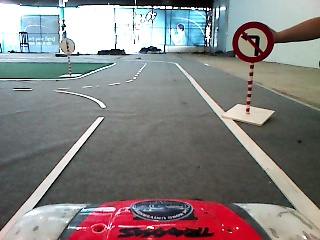ban: (230, 19, 277, 63)
